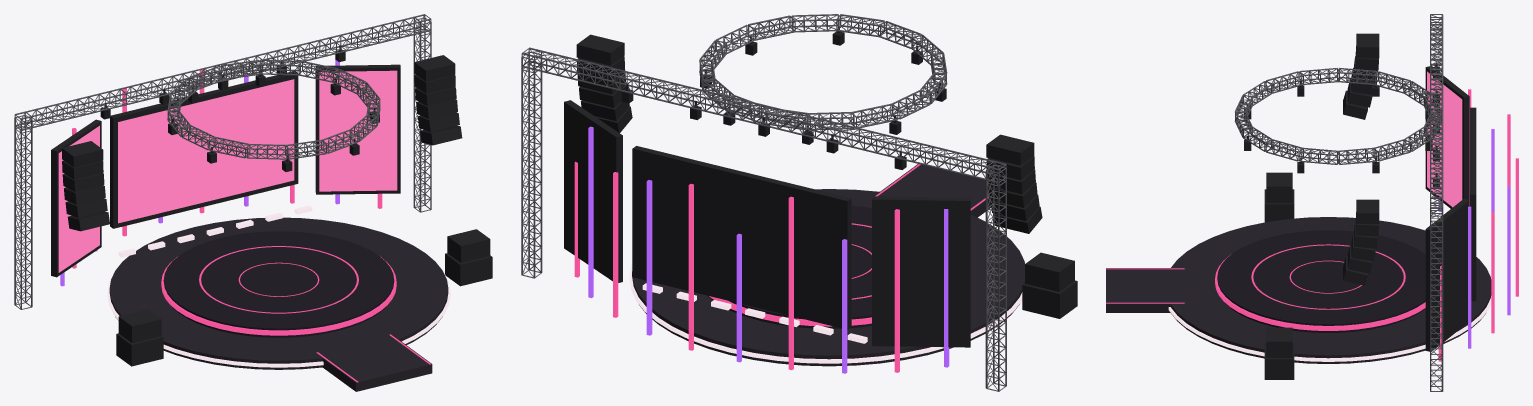
Rendered from stage.glb.
3 renders of one model, left to right at view 1: azimuth 30°, elevation 25°; view 2: azimuth 150°, elevation 25°; view 3: azimuth 270°, elevation 25°, orthographic. The views are drawn at different scales.
Parts seen in each view (by area): view 1: Stage_Lower, Rig_Dark, Stage_Top, Screen_Main, Truss, Screen_Side_R, LED_Pink, Screen_Side_L, LED_White, Pillar_Pink; view 2: Rig_Dark, Truss, Stage_Lower, Pillar_Purple, Pillar_Pink, LED_White, Stage_Top, LED_Pink; view 3: Stage_Lower, Rig_Dark, Stage_Top, Truss, Screen_Side_L, LED_Pink, Pillar_Pink, Pillar_Purple, LED_White.
Part boxes in pixels (box(x1,y1,x2,y2)): Stage_Lower: box(109, 217, 448, 391); Rig_Dark: box(51, 45, 492, 366); Stage_Top: box(163, 231, 394, 337); Screen_Main: box(118, 79, 294, 223); Truss: box(14, 14, 431, 309); Screen_Side_R: box(319, 70, 397, 191); LED_Pink: box(161, 246, 430, 382); Screen_Side_L: box(58, 125, 99, 272); LED_White: box(107, 205, 450, 367); Pillar_Pink: box(72, 70, 382, 268); Rig_Dark: box(564, 26, 1077, 347); Truss: box(521, 14, 1006, 391); Stage_Lower: box(632, 164, 1024, 366); Pillar_Purple: box(588, 126, 949, 373); Pillar_Pink: box(574, 161, 899, 372); LED_White: box(629, 252, 1025, 363); Stage_Top: box(707, 206, 871, 328); LED_Pink: box(709, 164, 989, 326); Stage_Lower: box(1106, 217, 1491, 363); Rig_Dark: box(1244, 33, 1476, 379); Stage_Top: box(1217, 230, 1425, 332); Truss: box(1234, 14, 1443, 391); Screen_Side_L: box(1427, 71, 1462, 207); LED_Pink: box(1106, 244, 1425, 330); Pillar_Pink: box(1438, 89, 1518, 361); Pillar_Purple: box(1438, 129, 1510, 348); LED_White: box(1168, 270, 1491, 361).
Size of the model in its own units: 14 by 6.24 by 12.62.
